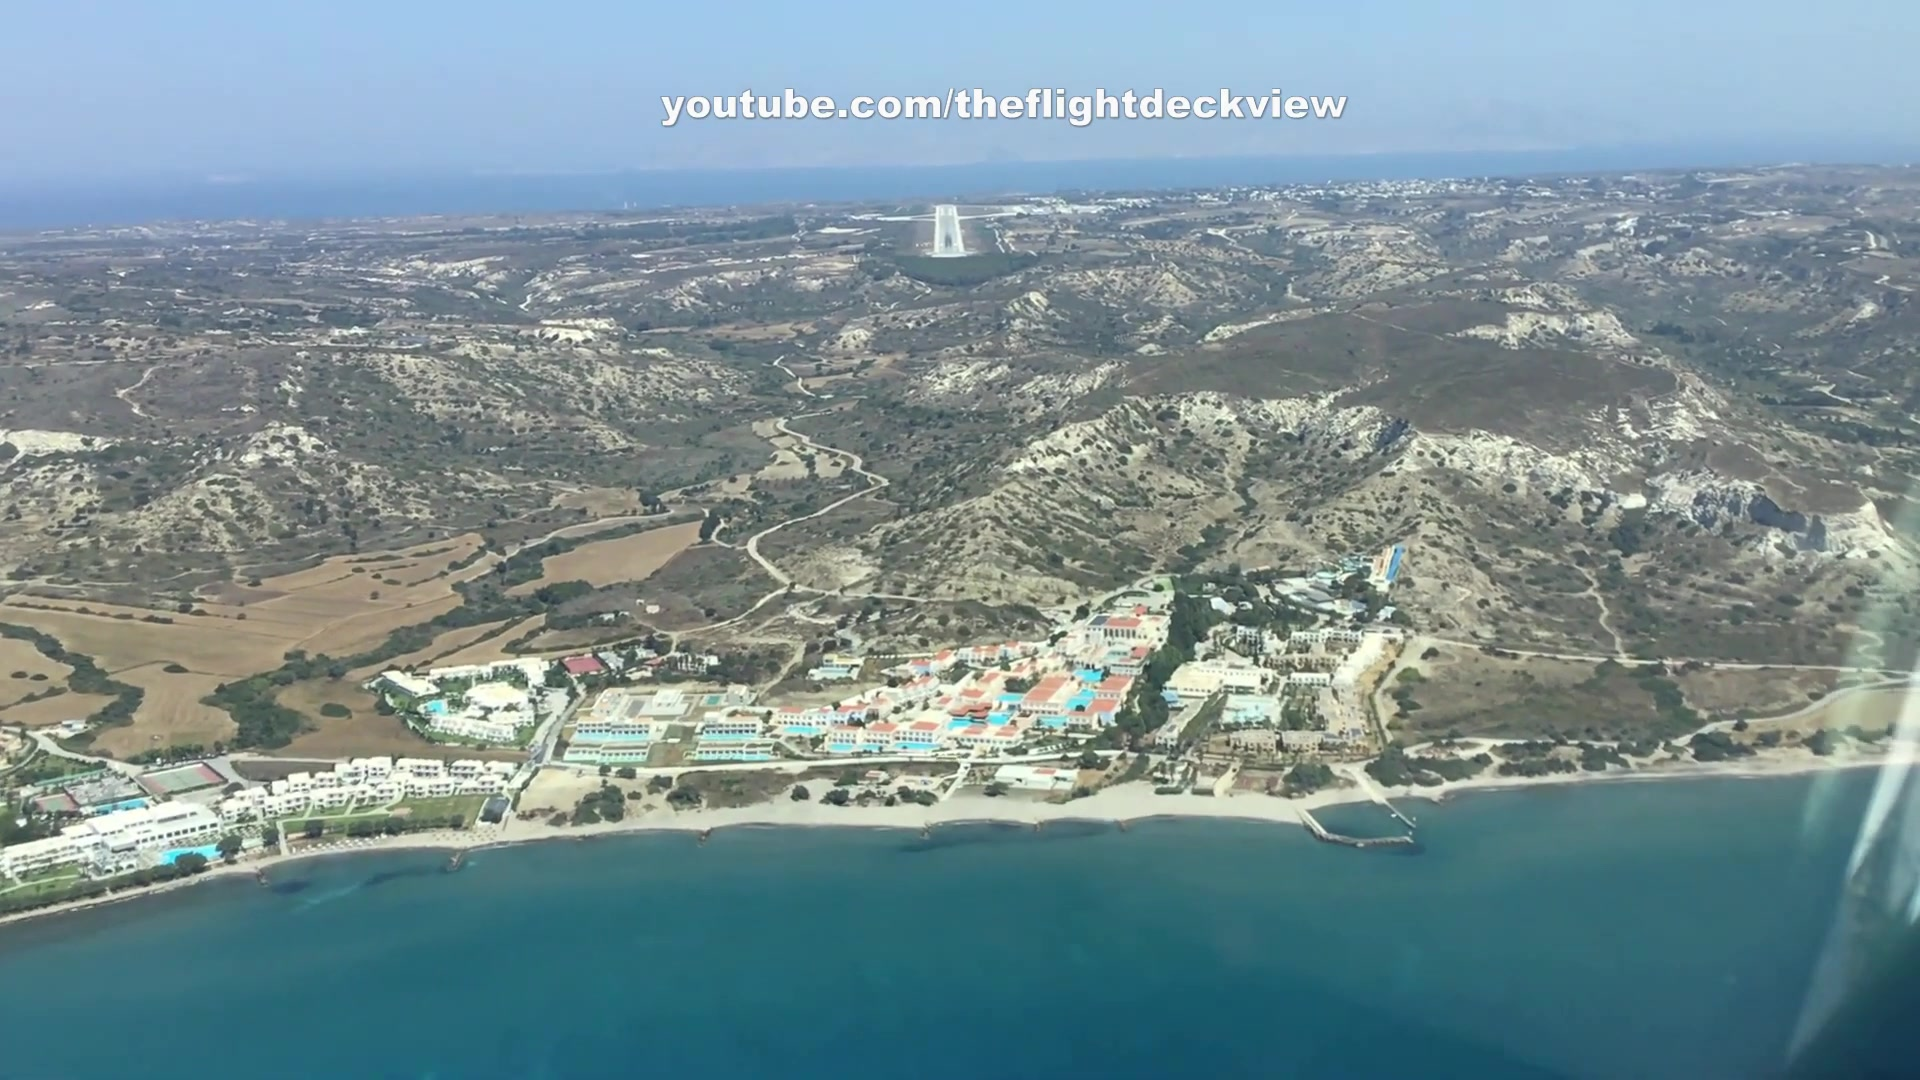runway: (928, 204, 967, 260)
